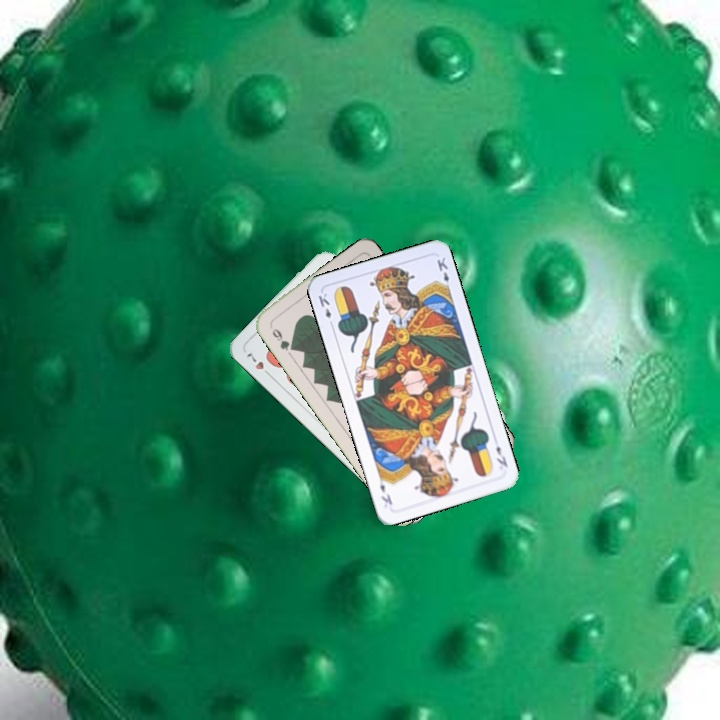EK: (314, 289, 336, 329), (492, 442, 510, 470)
G9: (268, 324, 298, 354)
H7: (242, 346, 274, 380)
